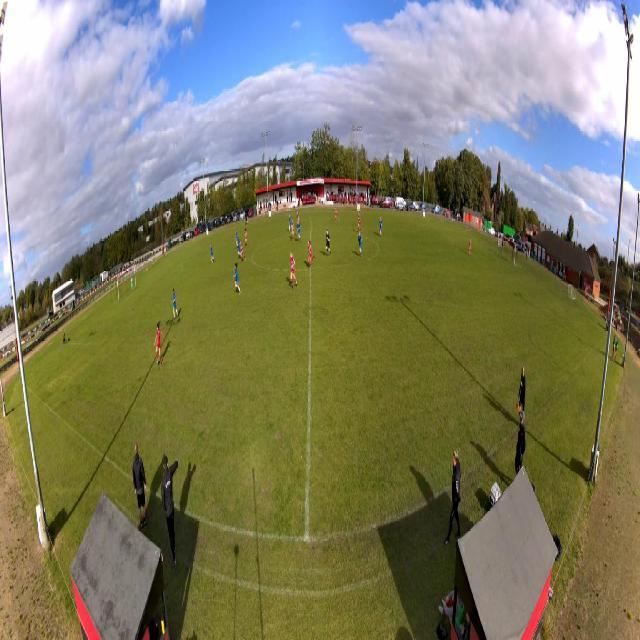player: (154, 321, 164, 367), (289, 252, 298, 289), (233, 263, 241, 295), (307, 239, 314, 268), (325, 229, 332, 258), (173, 289, 179, 320), (240, 241, 246, 262), (244, 227, 250, 248), (358, 232, 363, 257), (291, 220, 297, 240), (210, 245, 215, 264), (358, 211, 362, 232), (237, 237, 241, 257), (298, 221, 302, 241), (131, 276, 135, 294), (334, 206, 338, 223), (379, 217, 382, 236), (297, 212, 301, 226), (289, 215, 292, 233), (235, 230, 238, 247), (469, 237, 471, 256), (380, 216, 382, 233), (157, 359, 159, 365)
